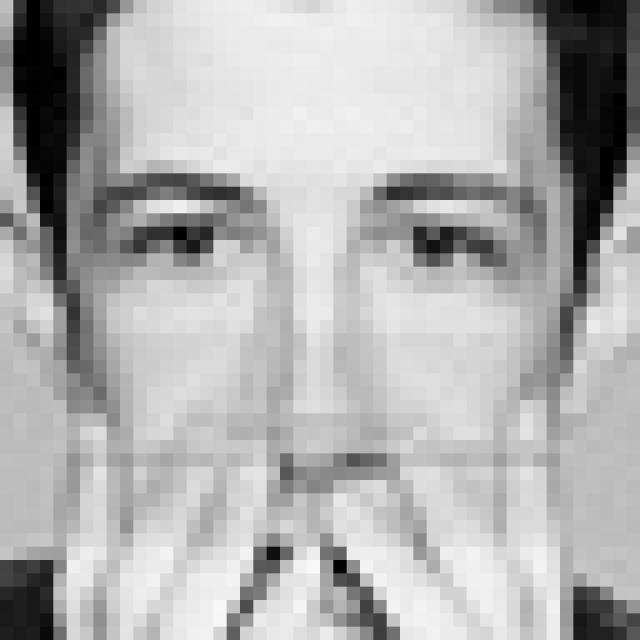fear: (86, 159, 552, 608)
